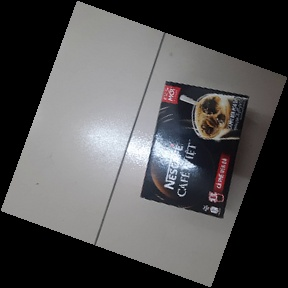CF Viet: (139, 81, 249, 220)
